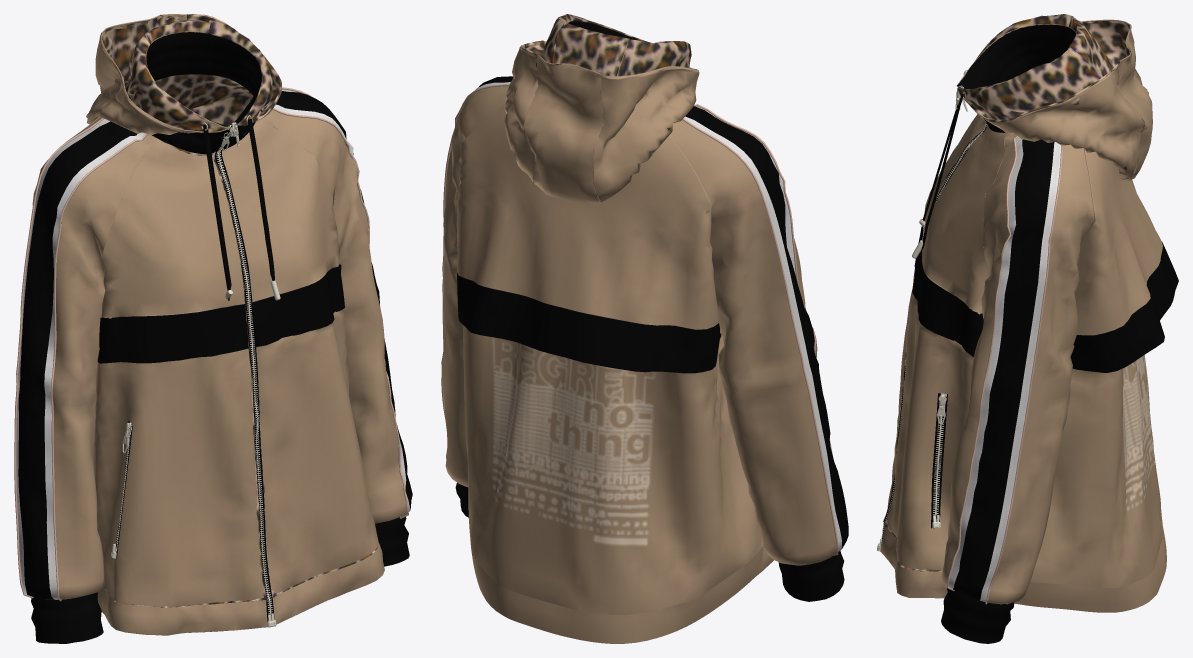
File: source.glb
3 views of the same model, side by side, from view 1: azimuth 30°, elevation 25°; view 2: azimuth 150°, elevation 25°; view 3: azimuth 270°, elevation 25° (orthographic). The views are drawn at different scales.
Visible parts, largest first — view 1: Object_11, Object_10, Object_12, Object_9, Object_14, Object_15, Object_13, Object_20, Object_19; view 2: Object_13, Object_12, Object_14, Object_15, Object_16, Object_10, Object_9, Object_11; view 3: Object_12, Object_13, Object_14, Object_10, Object_11, Object_15, Object_9, Object_16.
Boxes of the visible parts, box(x1,y1,x2,y2) form: Object_11: box(93, 79, 378, 607); Object_10: box(52, 26, 407, 619); Object_12: box(18, 89, 412, 643); Object_9: box(14, 78, 408, 635); Object_14: box(16, 27, 410, 599); Object_15: box(46, 14, 281, 599); Object_13: box(94, 91, 253, 444); Object_20: box(218, 130, 272, 612); Object_19: box(216, 129, 271, 614); Object_13: box(461, 152, 762, 643); Object_12: box(447, 76, 848, 601); Object_14: box(441, 39, 842, 565); Object_15: box(508, 14, 652, 203); Object_16: box(457, 273, 721, 373); Object_10: box(592, 39, 817, 357); Object_9: box(441, 84, 838, 571); Object_11: box(504, 47, 763, 545); Object_12: box(884, 139, 1162, 643); Object_13: box(1014, 221, 1166, 612); Object_14: box(948, 14, 1129, 604); Object_10: box(884, 16, 1148, 604); Object_11: box(884, 64, 1144, 571); Object_15: box(957, 17, 1152, 180); Object_9: box(880, 86, 1062, 604); Object_16: box(1070, 242, 1178, 372).
Bounding box in the file's own units: 524 × 725 × 365.
11 materials, 1 textured.
